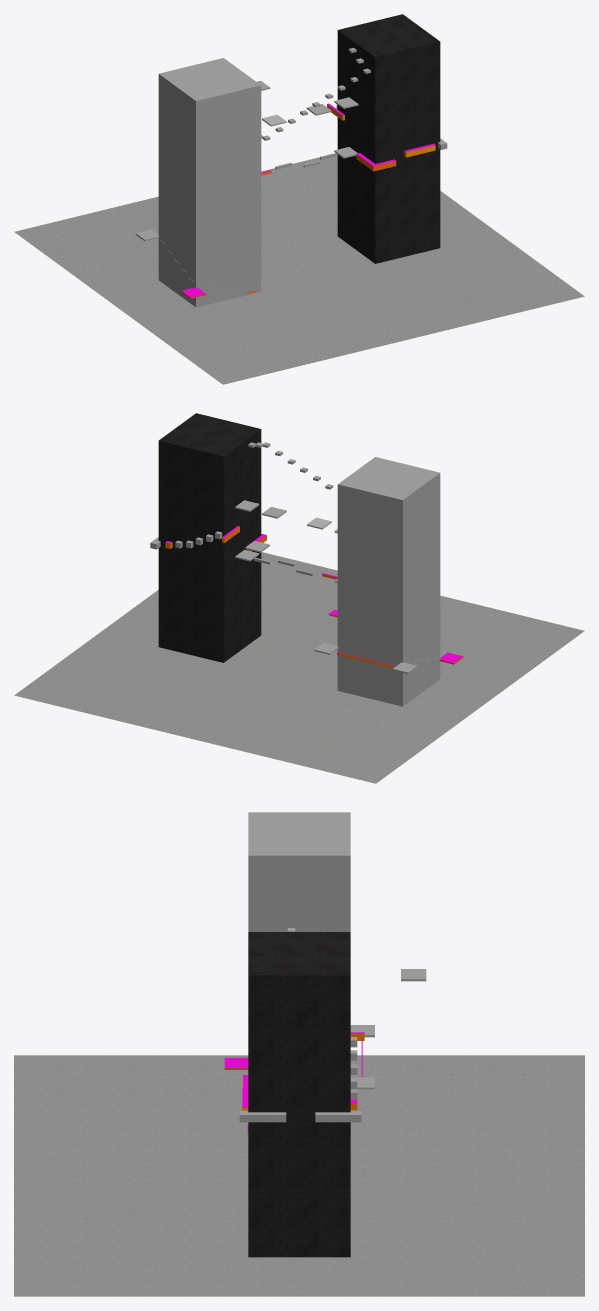
Rendered from Towers_with_Textures.fbx.
3 views of the same model, one above another, from view 1: azimuth 30°, elevation 25°; view 2: azimuth 150°, elevation 25°; view 3: azimuth 270°, elevation 25° (orthographic). The views are drawn at different scales.
Visible parts, largest first — view 1: pPlane1, Tower1, Tower2; view 2: pPlane1, Tower1, Tower2; view 3: pPlane1, Tower2, Tower1.
Part boxes in pixels (x1,y1,x2,y2): pPlane1: (14, 154, 584, 384); Tower1: (158, 58, 261, 307); Tower2: (337, 14, 440, 263); pPlane1: (14, 552, 584, 783); Tower1: (337, 457, 440, 706); Tower2: (158, 413, 261, 662); pPlane1: (14, 1055, 584, 1296); Tower2: (248, 932, 350, 1257); Tower1: (248, 812, 350, 931).
Bounding box in the file's own units: 72.15 × 39.83 × 72.15.
14 materials, 11 textured.
